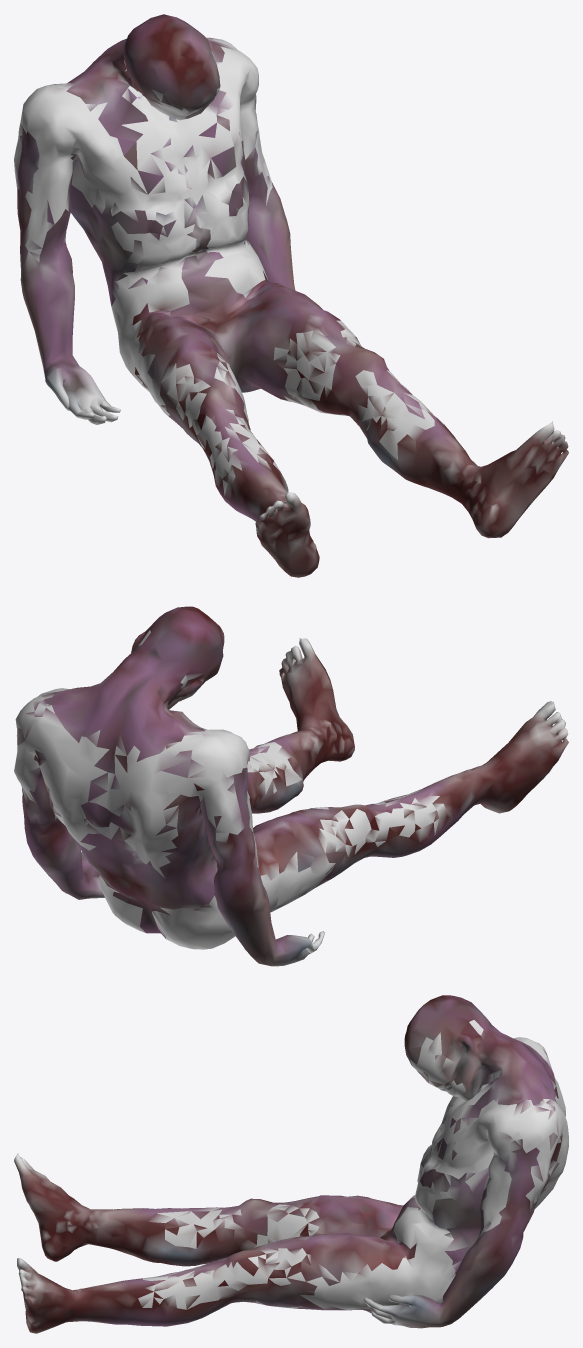
File: dead zombie_01.fbx
3 views of the same model, one above another, from view 1: azimuth 30°, elevation 25°; view 2: azimuth 150°, elevation 25°; view 3: azimuth 270°, elevation 25° (orthographic). The views are drawn at different scales.
Visible parts, largest first — view 1: creep.003; view 2: creep.003; view 3: creep.003.
Boxes of the visible parts, box(x1,y1,x2,y2) form: creep.003: box(14, 14, 568, 577); creep.003: box(14, 606, 568, 966); creep.003: box(14, 995, 568, 1333).
Size of the model in its own units: 167 by 189 by 309.
